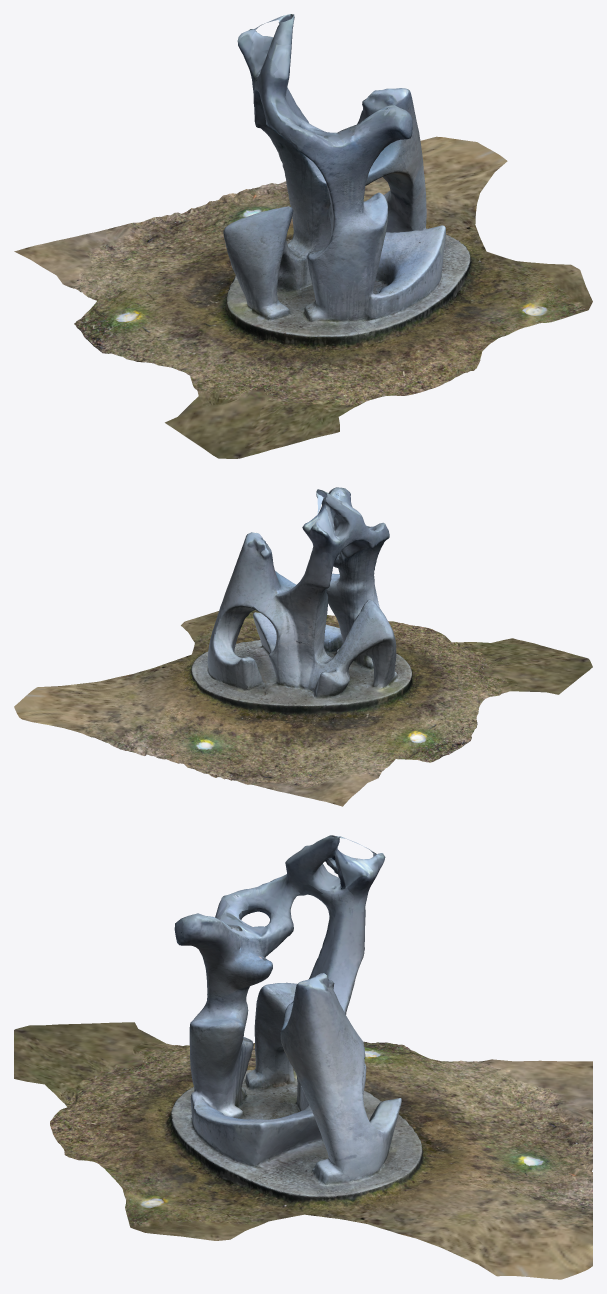
The model's file is TwoHeads.obj.
3 renders of one model, top to bottom at view 1: azimuth 30°, elevation 25°; view 2: azimuth 150°, elevation 25°; view 3: azimuth 270°, elevation 25°, orthographic. The views are drawn at different scales.
Visible parts, largest first — view 1: Object; view 2: Object; view 3: Object.
Boxes of the visible parts, x1,y1,x2,y2 form: Object: (14,14,592,458); Object: (14,487,592,806); Object: (14,835,592,1279).
Size of the model in its own units: 7.72 by 4.21 by 7.14.
